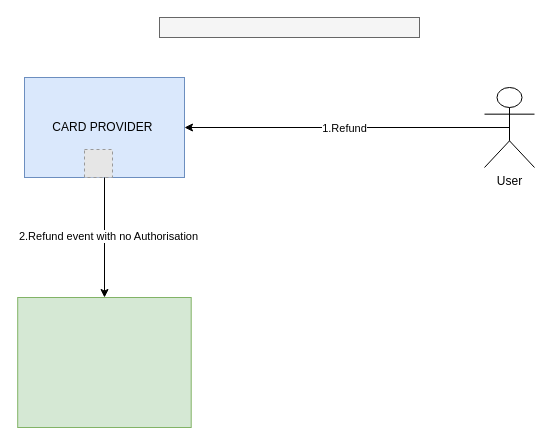
Image size: 552x445. Some labels were removed from this diagram. Grey dashed boxes stand in for pictures. Here are the shapes that lost their labels. From the top down, the centre of each, then its label:
the point at 289,27: FORCE REFUND FLOW
the point at 104,362: Virtual Card Service
